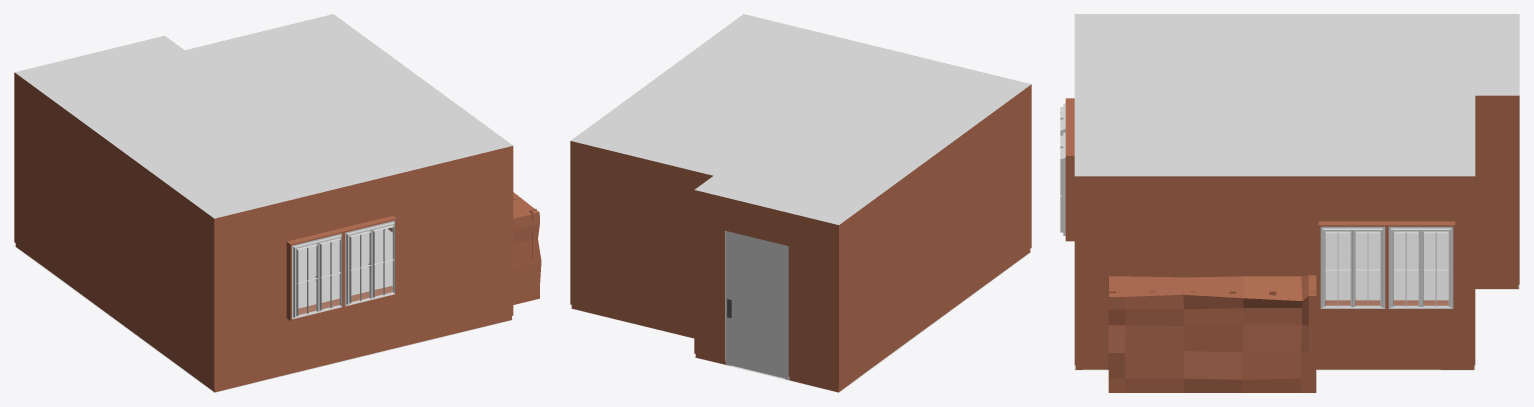
The model's file is map.glb.
3 renders of one model, left to right at view 1: azimuth 30°, elevation 25°; view 2: azimuth 150°, elevation 25°; view 3: azimuth 270°, elevation 25°, orthographic. The views are drawn at different scales.
Visible parts, largest first — view 1: Plane.014, Plane.106, Plane.188, Plane.108, Plane, Plane.088, Plane.052, Plane.017, Plane.089; view 2: Plane.014, Plane.106, Cube.007, Plane.052, Plane; view 3: Plane.106, Plane.014, Plane.088, Plane.189, Plane, Plane.109, Plane.017, Plane.052, Plane.108, Plane.093.
Part boxes in pixels (x1,y1,x2,y2): Plane.014: (14, 72, 513, 388); Plane.106: (15, 14, 512, 218); Plane.188: (298, 227, 393, 315); Plane.108: (292, 220, 395, 319); Plane: (15, 228, 512, 392); Plane.088: (513, 192, 541, 304); Plane.052: (15, 227, 511, 392); Plane.017: (298, 267, 369, 308); Plane.089: (298, 286, 392, 314); Plane.014: (570, 84, 1031, 388); Plane.106: (570, 14, 1031, 224); Cube.007: (725, 231, 789, 380); Plane.052: (571, 249, 1030, 392); Plane: (571, 252, 1030, 392); Plane.106: (1074, 14, 1519, 176); Plane.014: (1065, 95, 1519, 365); Plane.088: (1108, 275, 1316, 392); Plane.189: (1325, 233, 1448, 306); Plane: (1074, 233, 1519, 370); Plane.109: (1320, 226, 1453, 308); Plane.017: (1325, 238, 1380, 300); Plane.052: (1075, 284, 1518, 369); Plane.108: (1060, 103, 1065, 235); Plane.093: (1325, 300, 1448, 305).
Size of the model in its own units: 8.61 by 4.18 by 8.97.
